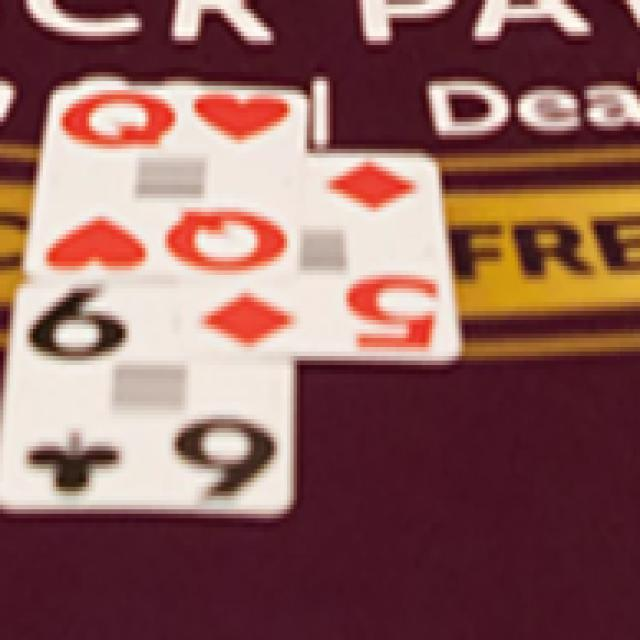Card-5: (190, 153, 460, 360)
Card-6: (0, 283, 294, 521)
Card-Q: (29, 85, 306, 283)
